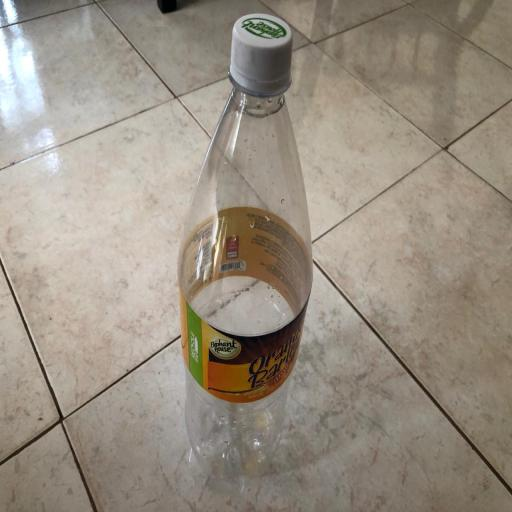waste: (172, 10, 316, 499)
